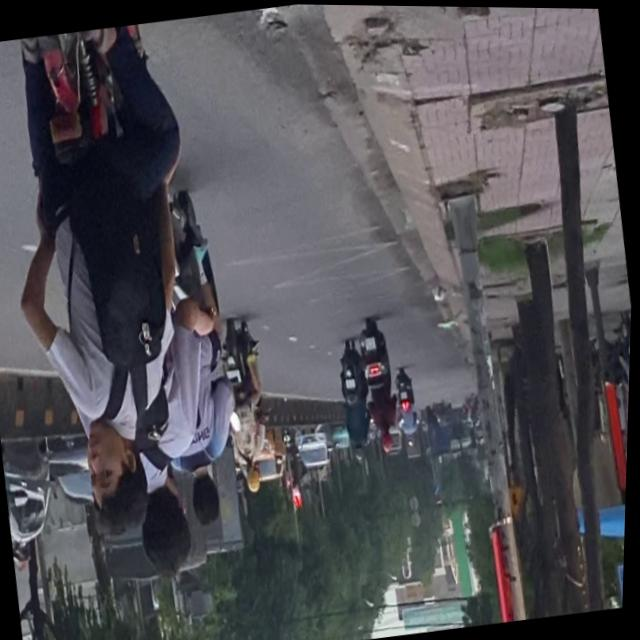licenseplate: (0, 16, 258, 593)
motorcyclist: (80, 415, 159, 544), (131, 464, 204, 581)
